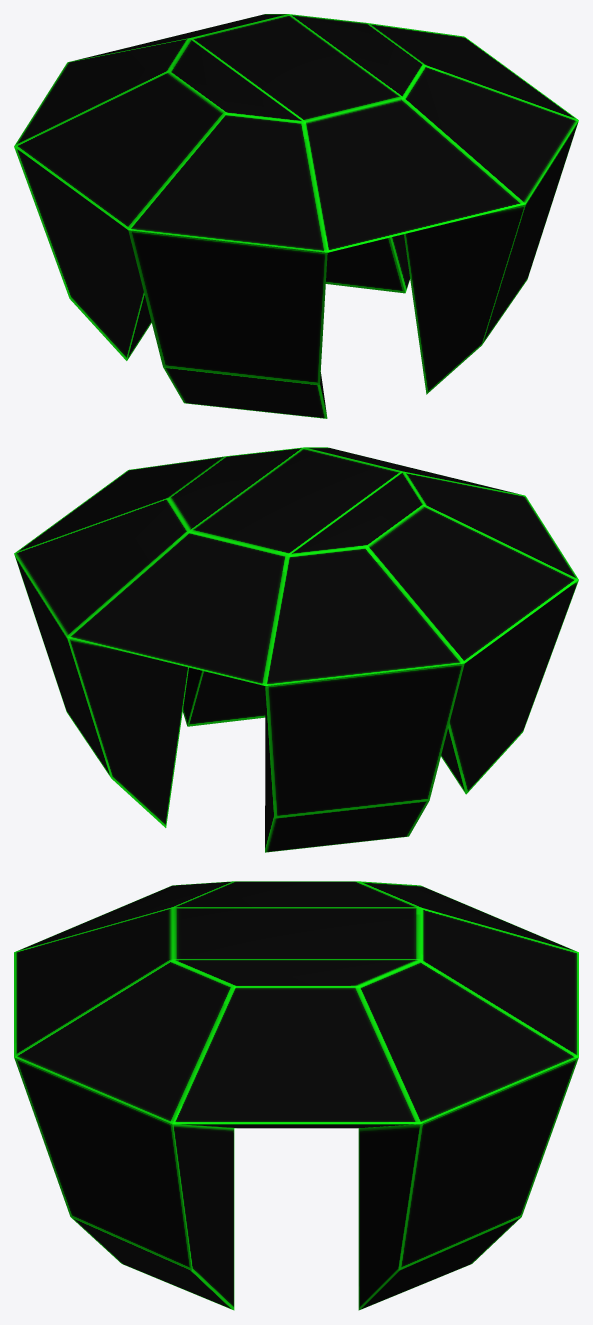
Rendered from Betty(Air).fbx.
3 renders of one model, top to bottom at view 1: azimuth 30°, elevation 25°; view 2: azimuth 150°, elevation 25°; view 3: azimuth 270°, elevation 25°, orthographic. The views are drawn at different scales.
Visible parts, largest first — view 1: BettyBounce; view 2: BettyBounce; view 3: BettyBounce.
Boxes of the visible parts, box(x1,y1,x2,y2) form: BettyBounce: box(14, 14, 578, 418); BettyBounce: box(14, 447, 578, 852); BettyBounce: box(14, 881, 578, 1310).
Size of the model in its own units: 1.17 by 0.6955 by 1.17.
